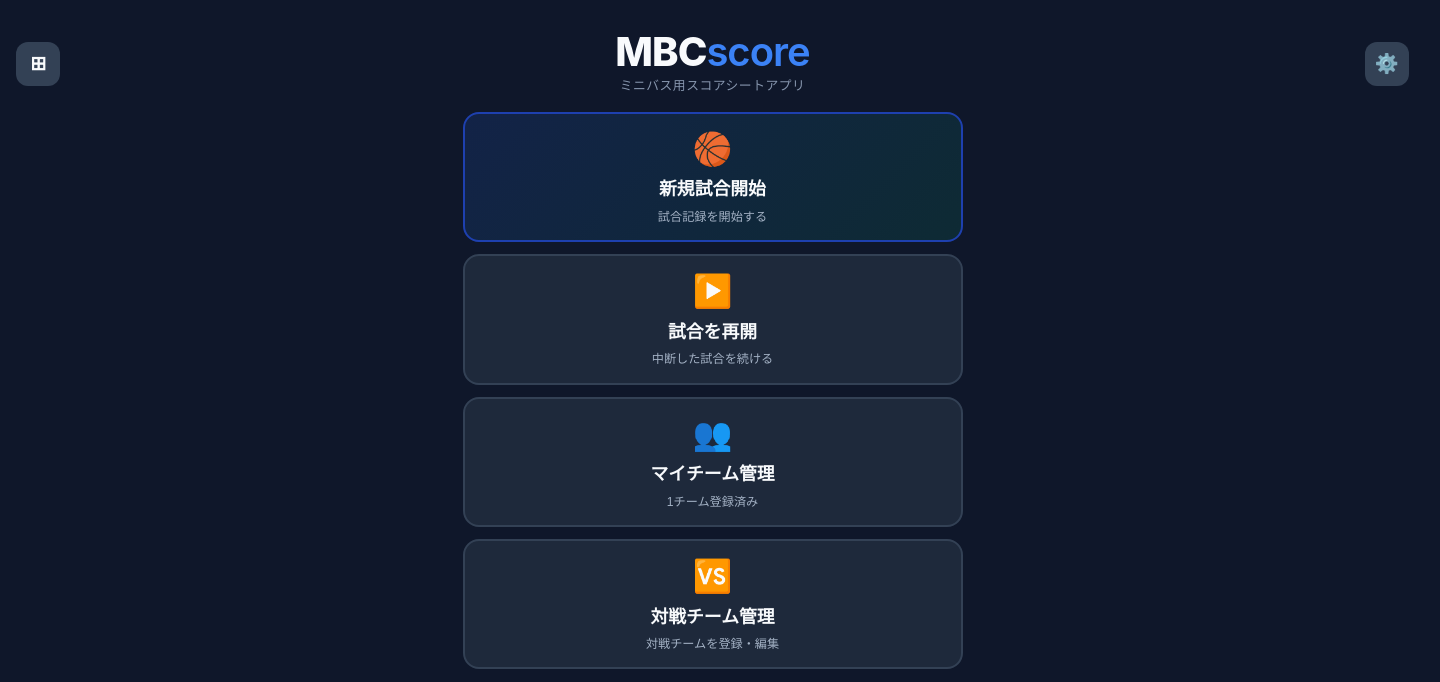
App: 音声メモの寿命は試合単位 › 試合中にホームボタンで戻っても（中断）、音声メモは消えない
This screenshot has width=1440, height=682.
What coordinates should you click on to do the following:
click the text "試合を再開"
I would click on:
 (713, 330)
Its box is [668,317,757,343].
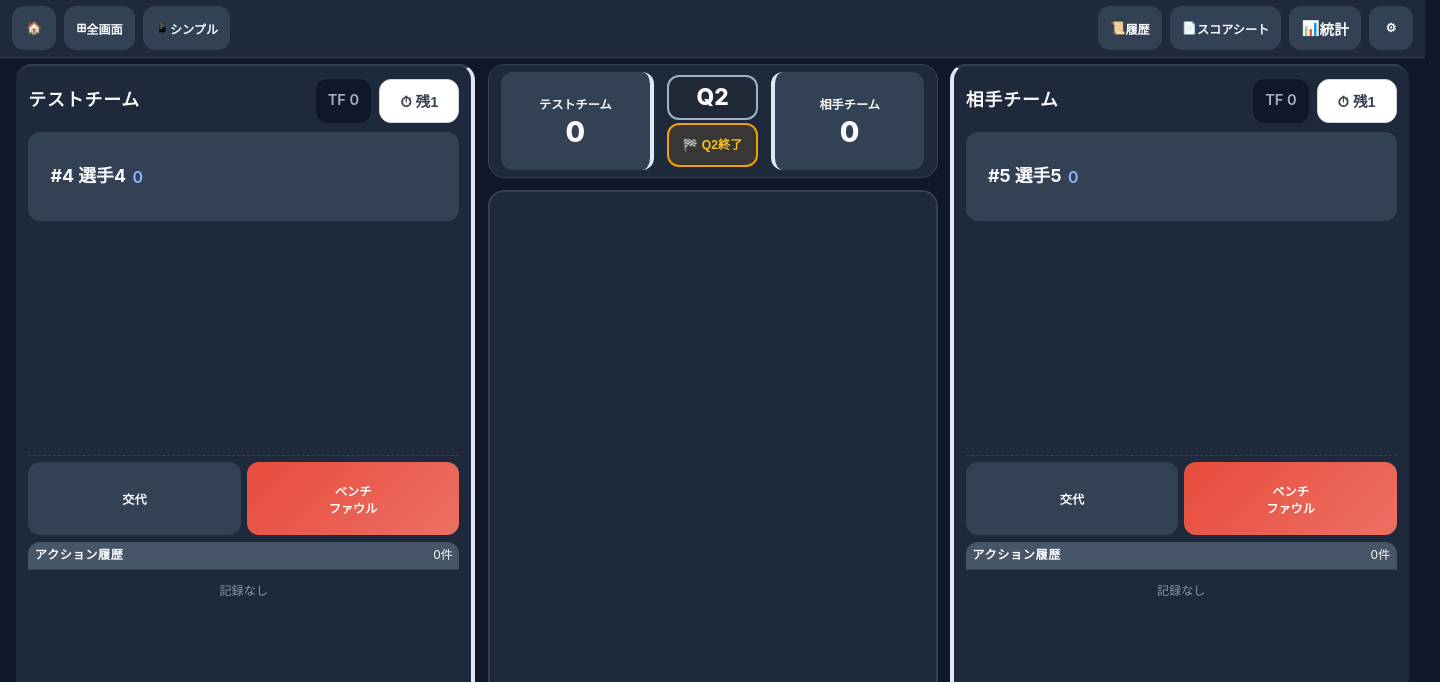
What coordinates should you click on to do the following:
click the button named "ホームへ戻る"
I would click on:
 (34, 28)
Its box is [12,6,56,50].
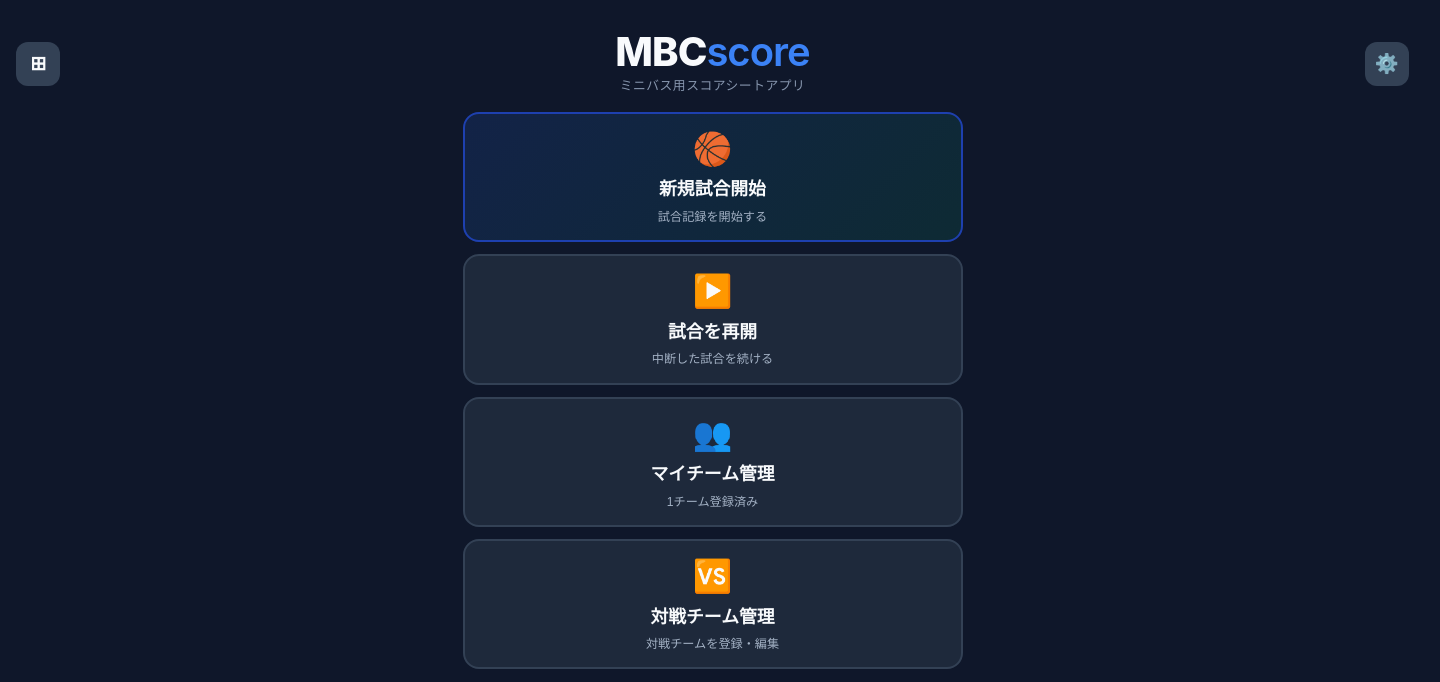
Expected: the text "試合を再開" is shown, [668,317,757,343]
